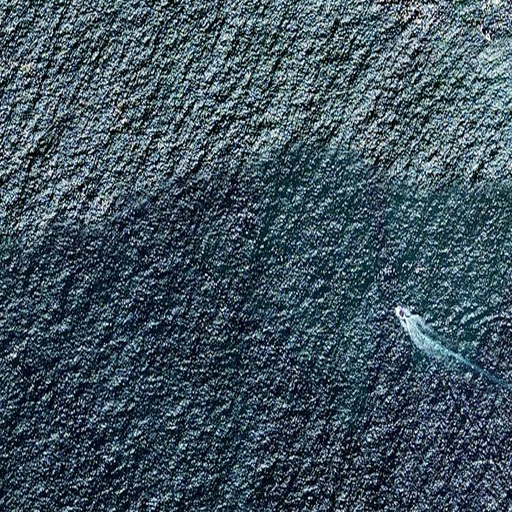ship: (393, 305, 410, 322)
